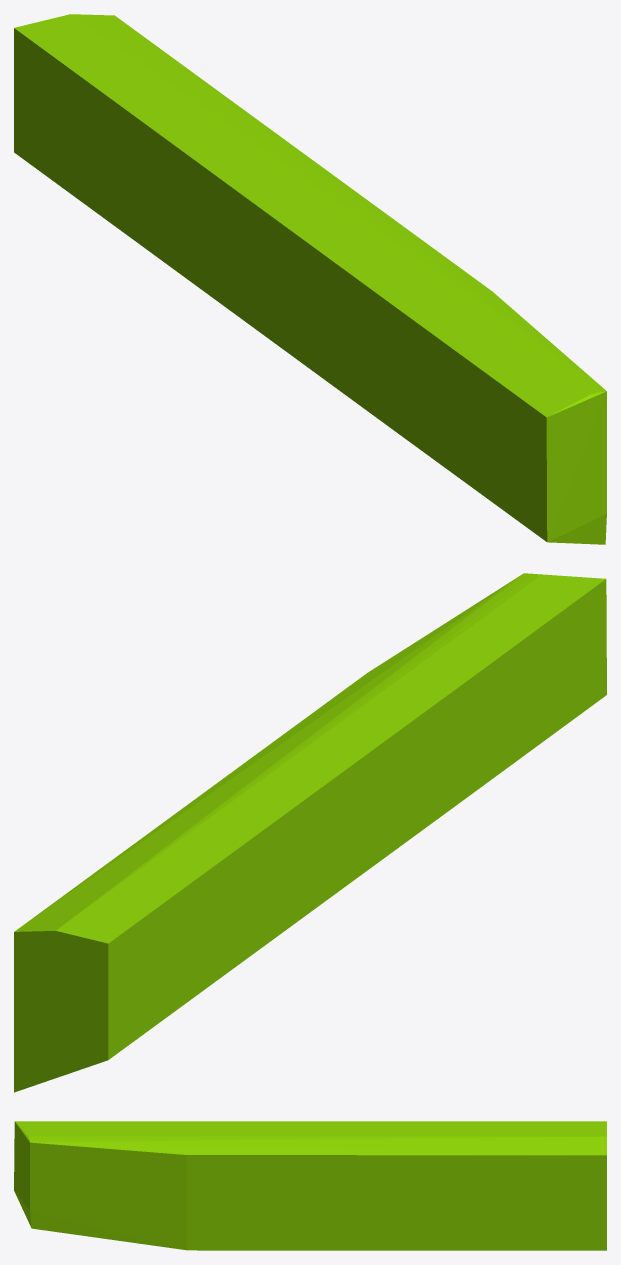
The model's file is simple_example_hole_part_21.obj.
The picture shows the model from 3 angles, top to bottom: view 1: azimuth 30°, elevation 25°; view 2: azimuth 150°, elevation 25°; view 3: azimuth 270°, elevation 25°; orthographic projection. The views are drawn at different scales.
Size of the model in its own units: 0.2541 by 0.4426 by 2.33.
